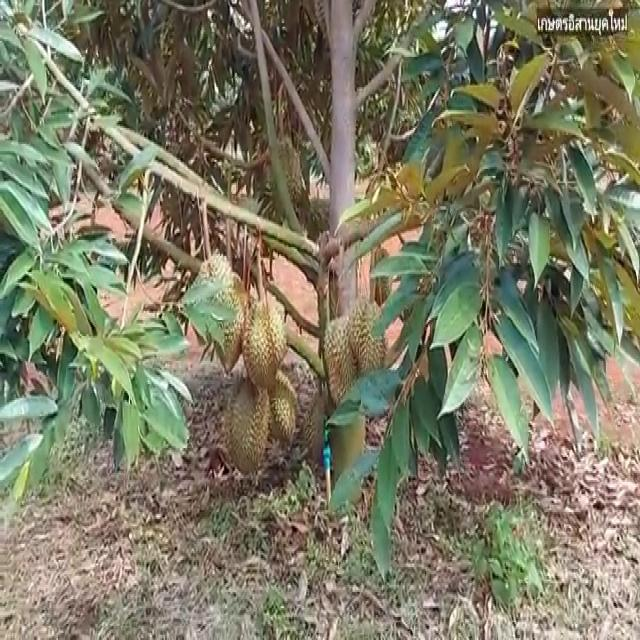durian: (220, 368, 272, 484), (239, 288, 294, 395), (343, 292, 390, 390), (207, 272, 250, 378), (260, 362, 300, 468), (321, 313, 358, 408), (268, 135, 308, 207)
